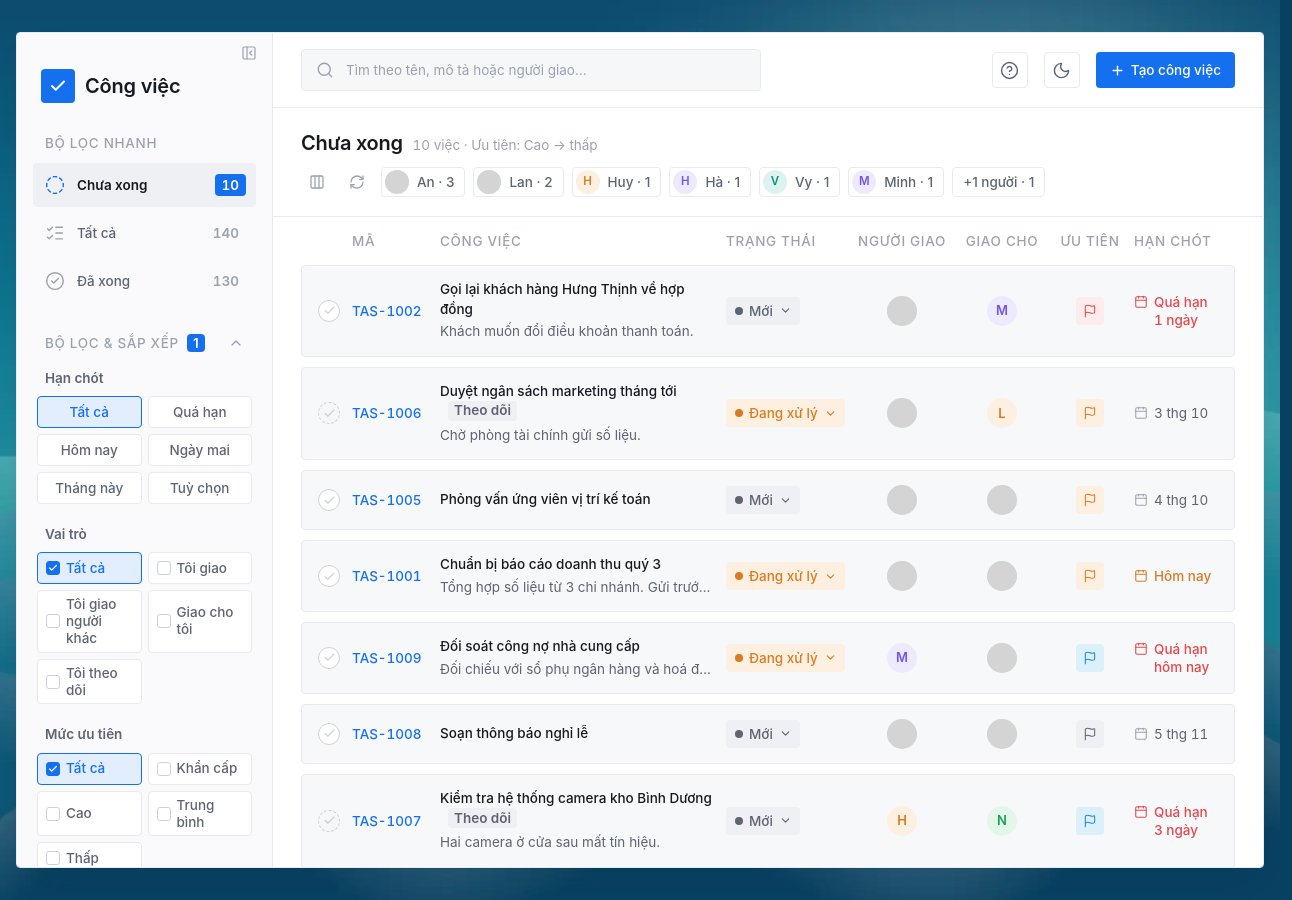
Scenario: task list (AC1, AC3–AC7, AC20) › filters by the ticked roles with OR (AC5)
Expected: the checkbox with test id "role-filter-all" is checked, [37, 552, 142, 584]
Click the checkbox with test id "role-filter-assignee": x=200, y=621 [148, 590, 252, 653]
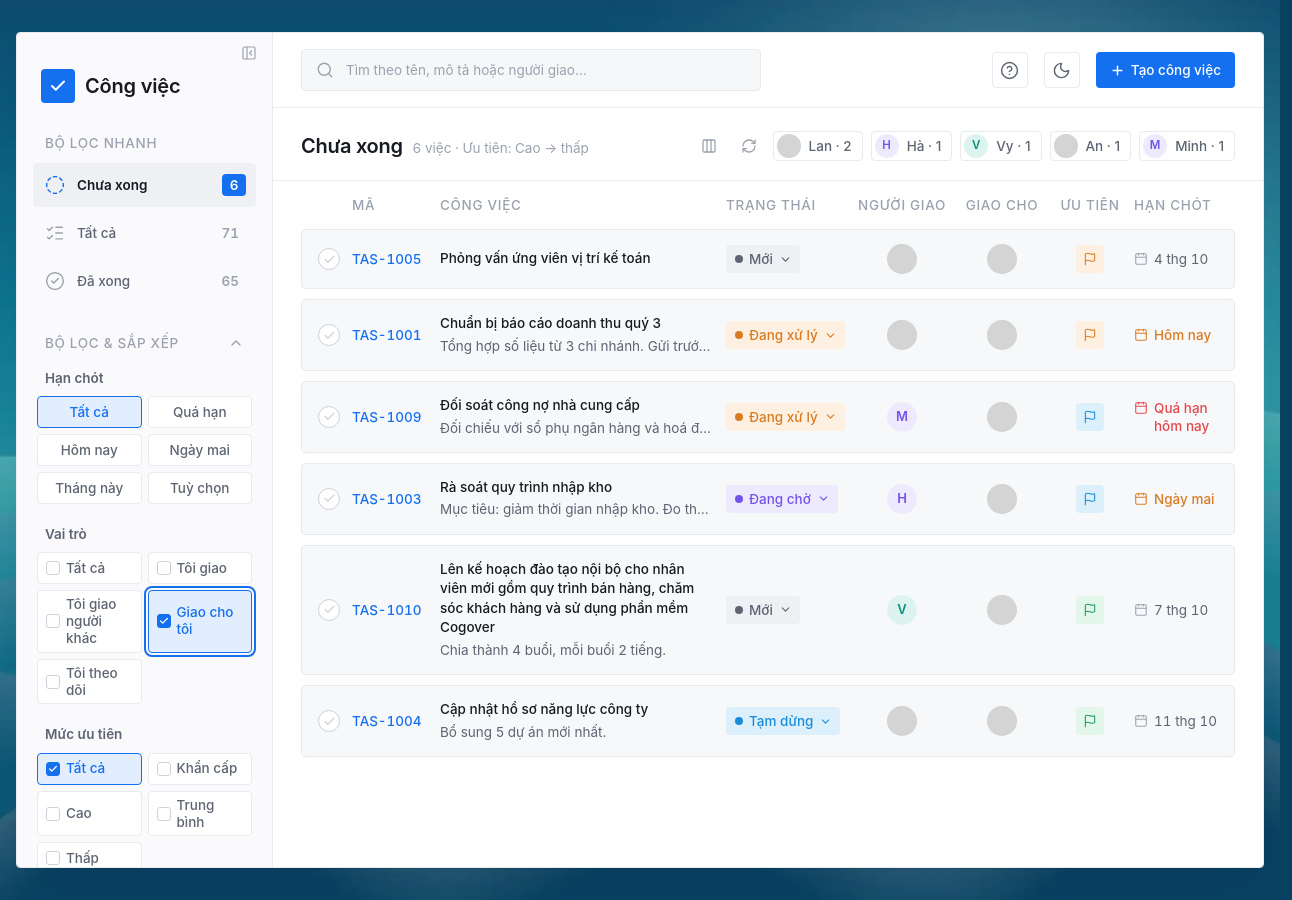
Click the checkbox with test id "role-filter-reporter": x=200, y=568 [148, 552, 252, 584]
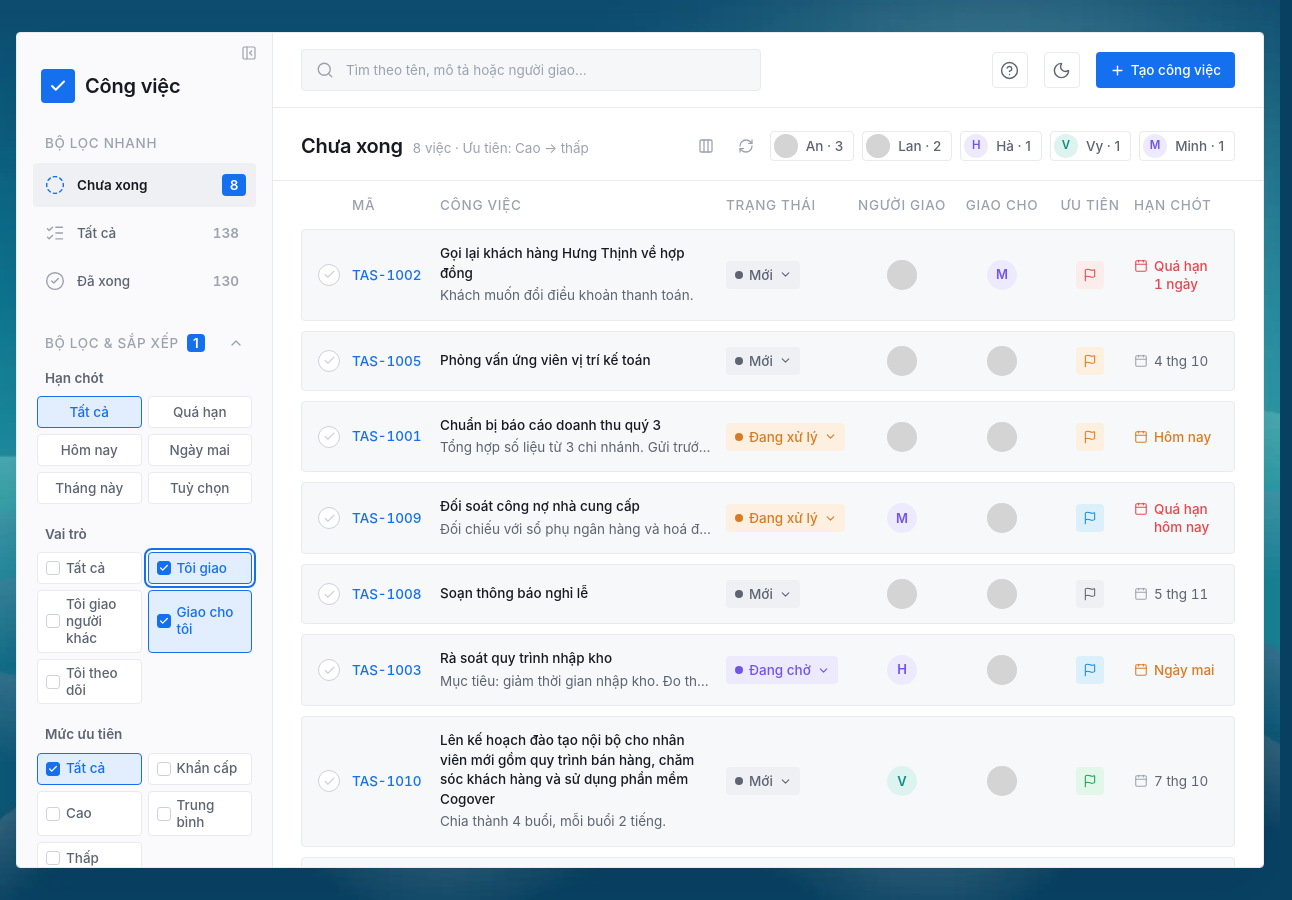
Now the number of list items with test id "task-item" is 8
Click the checkbox with test id "role-filter-assignee": x=200, y=621 [148, 590, 252, 653]
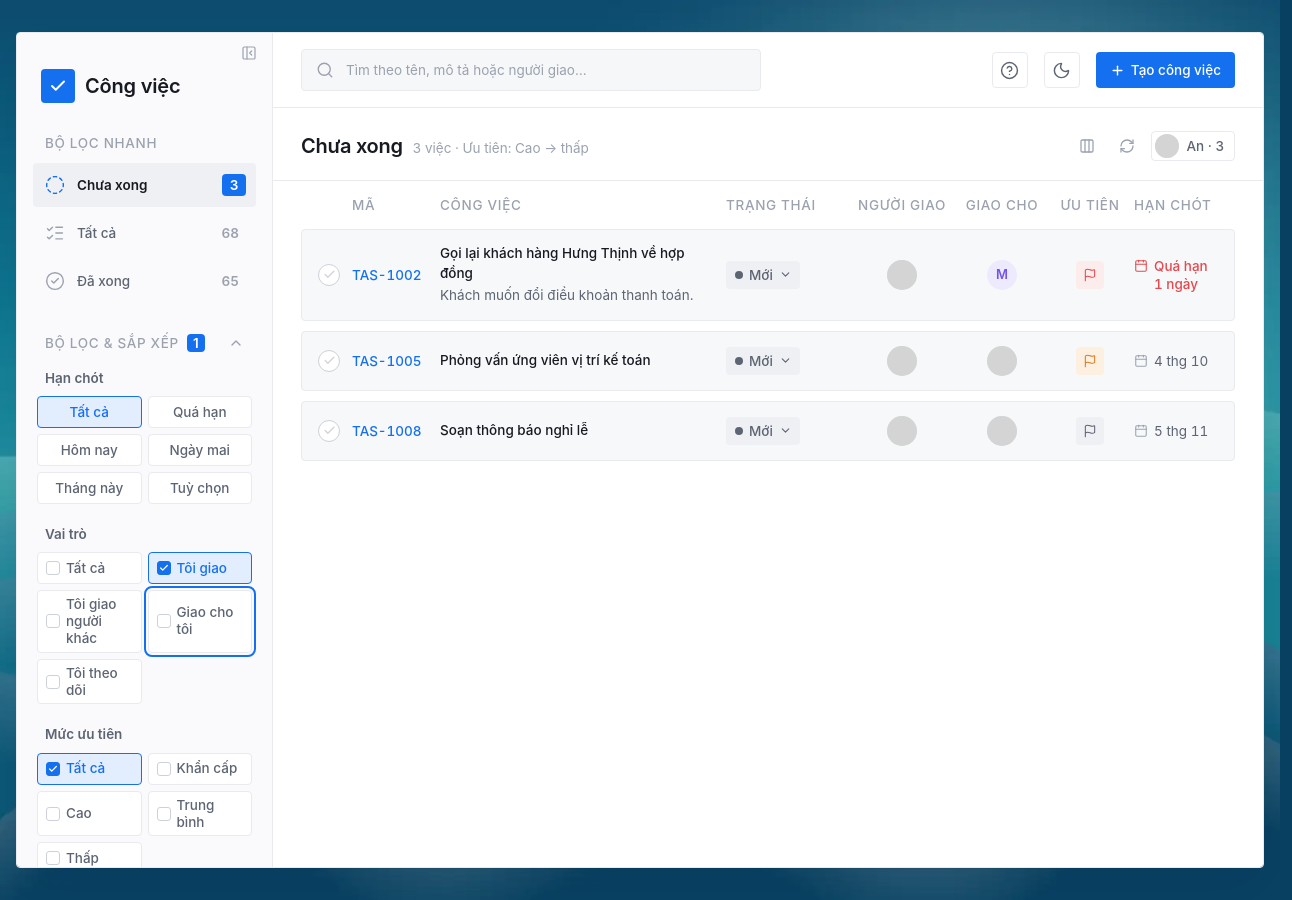
Click the checkbox with test id "role-filter-cc": x=89, y=682 [37, 659, 142, 704]
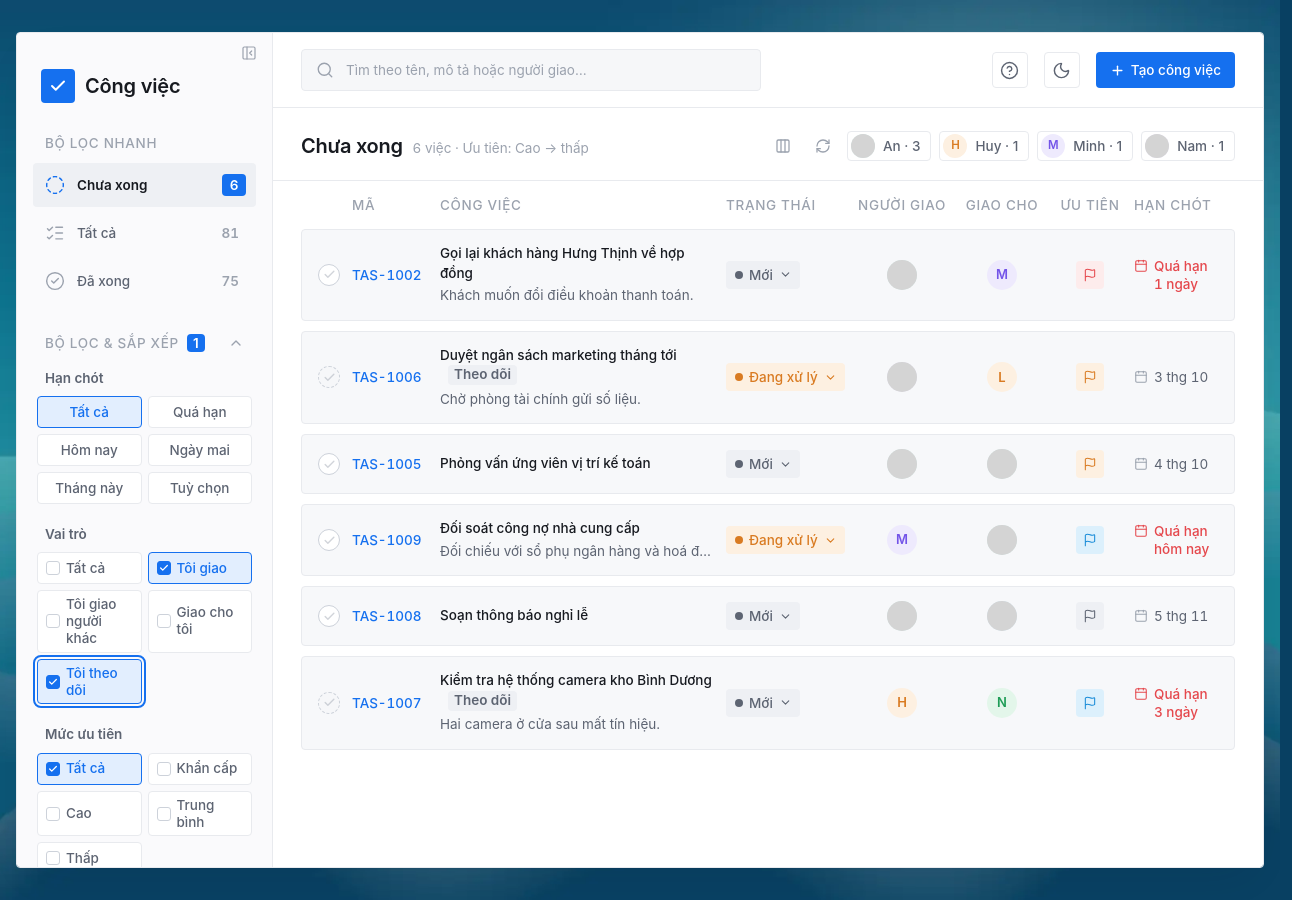
Click the checkbox with test id "role-filter-reporter": x=200, y=568 [148, 552, 252, 584]
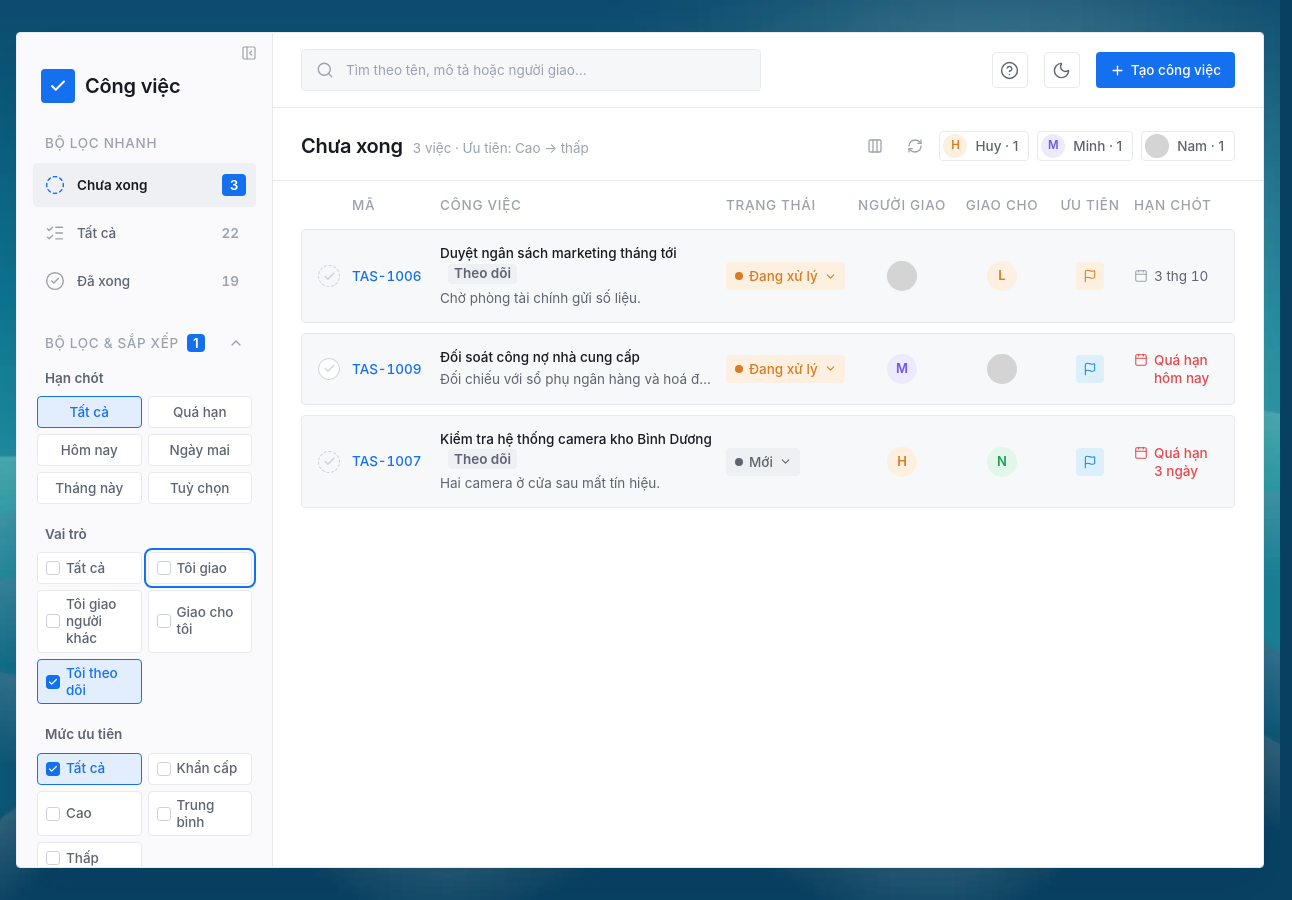
Click the checkbox with test id "role-filter-cc": x=89, y=682 [37, 659, 142, 704]
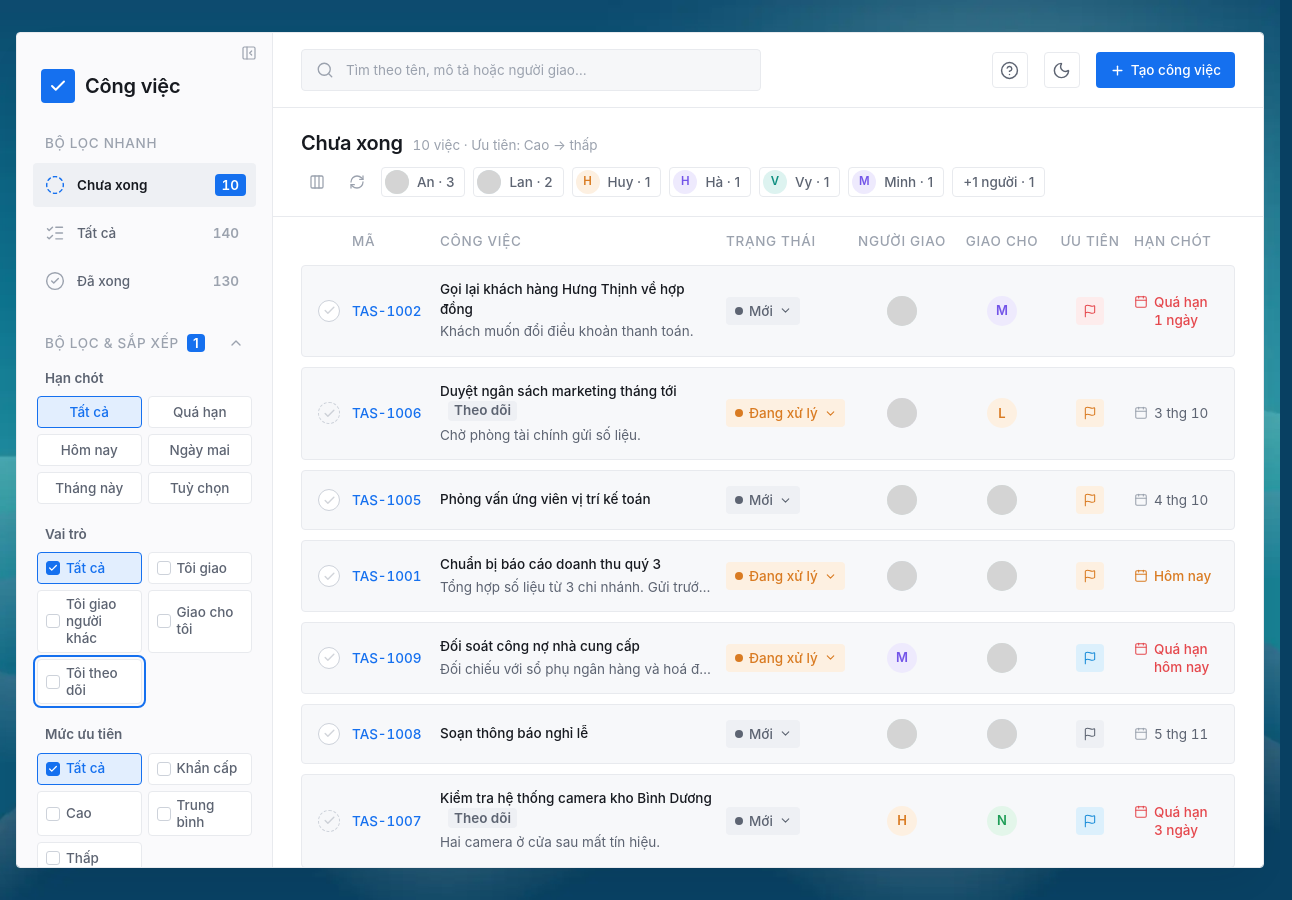
Now the checkbox with test id "role-filter-all" is checked, box [37, 552, 142, 584]
